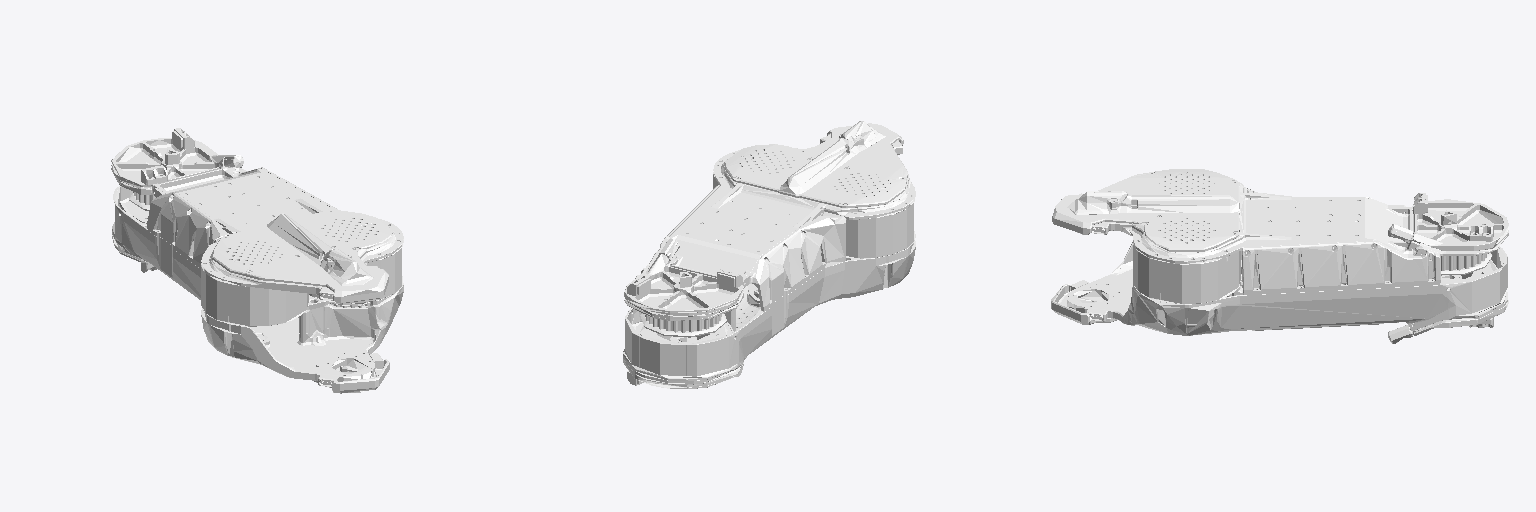
3 views of the same model, side by side, from view 1: azimuth 30°, elevation 25°; view 2: azimuth 150°, elevation 25°; view 3: azimuth 270°, elevation 25° (orthographic).
Visible parts, largest first — view 1: r_hip_fe_link; view 2: r_hip_fe_link; view 3: r_hip_fe_link.
Part boxes in pixels (bbox=[...]): r_hip_fe_link: bbox=[111, 128, 403, 393]; r_hip_fe_link: bbox=[623, 121, 915, 388]; r_hip_fe_link: bbox=[1051, 169, 1508, 343].
Size of the model in its own units: 0.198 by 0.1296 by 0.416.
Materials: 1 (1 with a texture image).